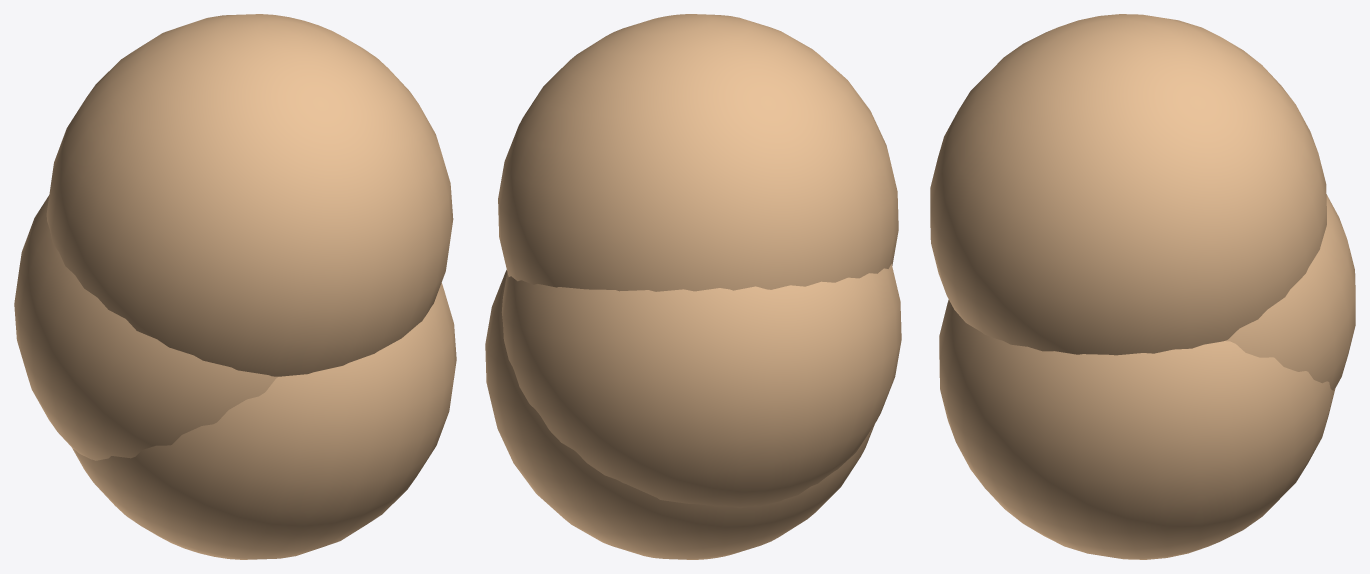
The model's file is anim2.glb.
The picture shows the model from 3 angles, left to right: view 1: azimuth 30°, elevation 25°; view 2: azimuth 150°, elevation 25°; view 3: azimuth 270°, elevation 25°; orthographic projection.
Visible parts, largest first — view 1: Sphere2, Sphere3, Sphere1; view 2: Sphere2, Sphere1, Sphere3; view 3: Sphere2, Sphere3, Sphere1.
Part boxes in pixels (box(x1,y1,x2,y2)): Sphere2: box(46, 14, 453, 376); Sphere3: box(72, 283, 456, 559); Sphere1: box(14, 195, 278, 460); Sphere2: box(498, 14, 898, 291); Sphere1: box(501, 264, 901, 508); Sphere3: box(485, 270, 874, 559); Sphere2: box(930, 14, 1326, 355); Sphere3: box(939, 299, 1335, 559); Sphere1: box(1225, 194, 1355, 390).
Size of the model in its own units: 0.8564 by 1.12 by 0.8528.
